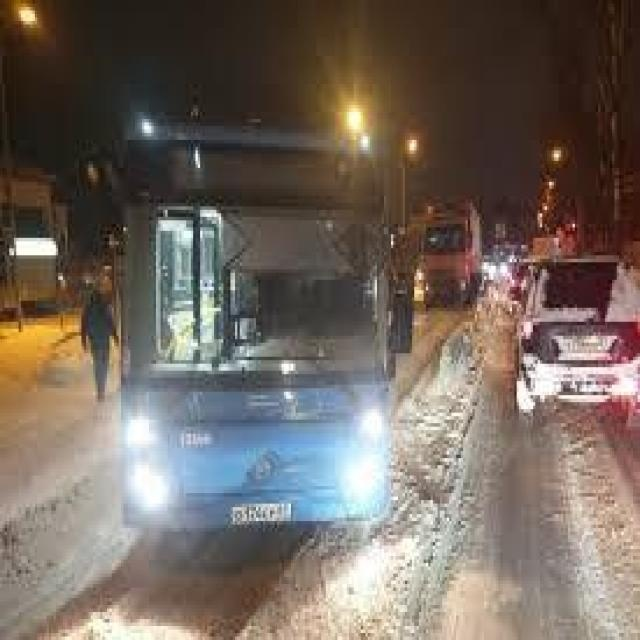Bus: (100, 84, 419, 553)
